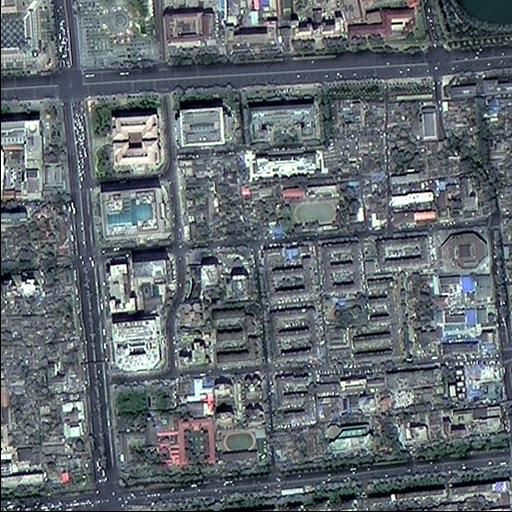school: (280, 185, 349, 235), (215, 427, 268, 465)
